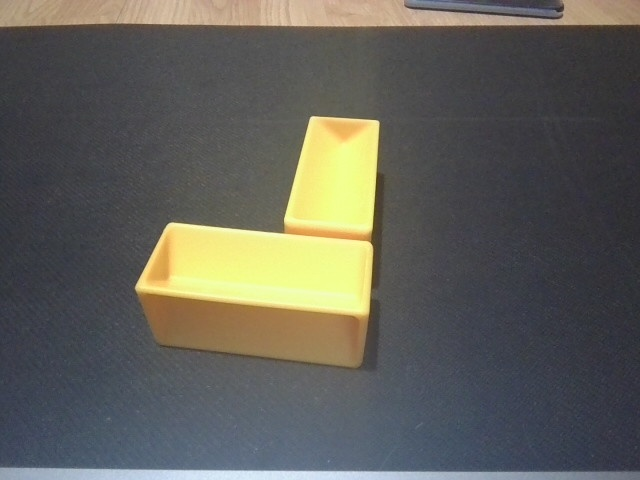YellowSample: (129, 218, 376, 371), (278, 111, 383, 247)
